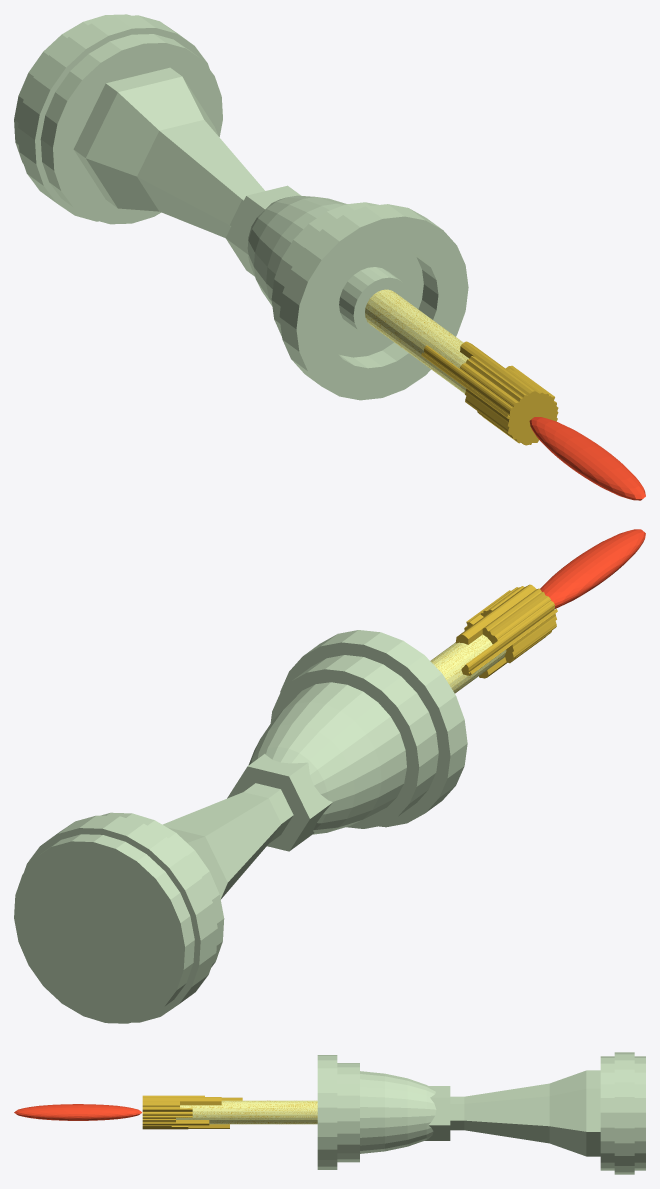
3 renders of one model, top to bottom at view 1: azimuth 30°, elevation 25°; view 2: azimuth 150°, elevation 25°; view 3: azimuth 270°, elevation 25°, orthographic. The views are drawn at different scales.
Visible parts, largest first — view 1: candelabro chandelier; view 2: candelabro chandelier; view 3: candelabro chandelier.
Boxes of the visible parts, <box> form: candelabro chandelier: <box>14,14,645,500</box>; candelabro chandelier: <box>14,529,645,1023</box>; candelabro chandelier: <box>14,1052,645,1174</box>.
Bounding box in the file's own units: 7.34 × 7.3 × 37.91.
